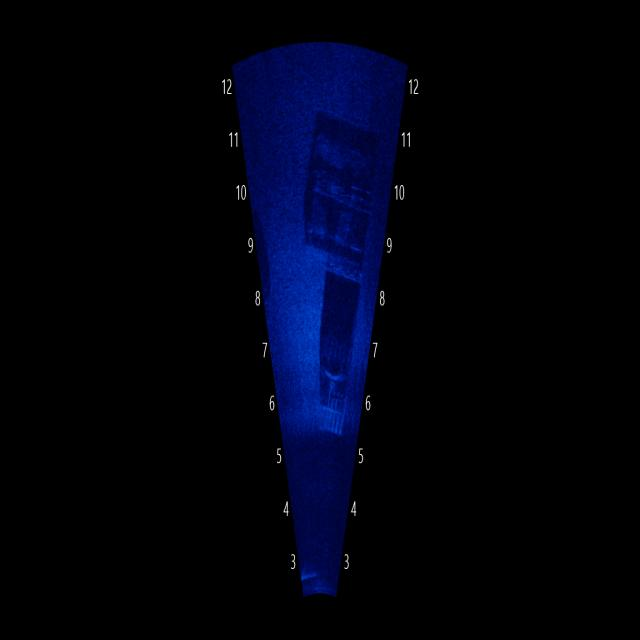square: (301, 107, 377, 290), (316, 284, 357, 439)
